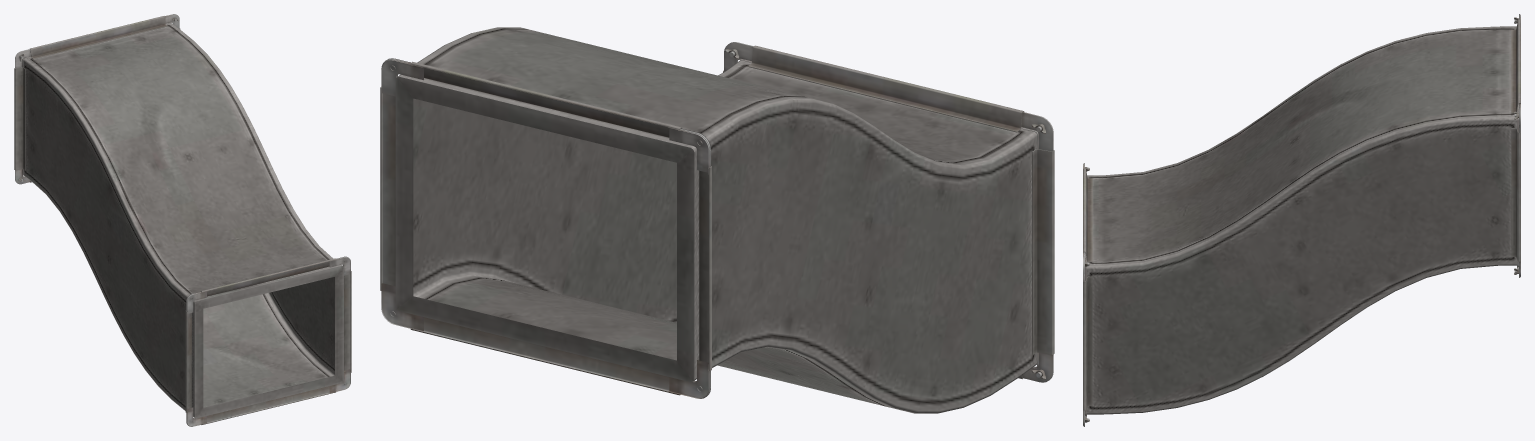
Rendered from transition_double_02.gltf.
3 views of the same model, side by side, from view 1: azimuth 30°, elevation 25°; view 2: azimuth 150°, elevation 25°; view 3: azimuth 270°, elevation 25° (orthographic). The views are drawn at different scales.
Visible parts, largest first — view 1: transition_double_02; view 2: transition_double_02; view 3: transition_double_02.
Boxes of the visible parts, <box> form: transition_double_02: <box>14,14,351,426</box>; transition_double_02: <box>380,27,1054,413</box>; transition_double_02: <box>1083,14,1520,426</box>.
Bounding box in the file's own units: 0.6634 × 0.9627 × 1.2.
Materials: 2 (2 with a texture image).
